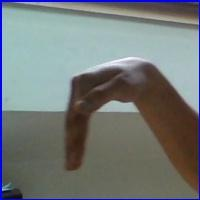del: (61, 50, 175, 181)
